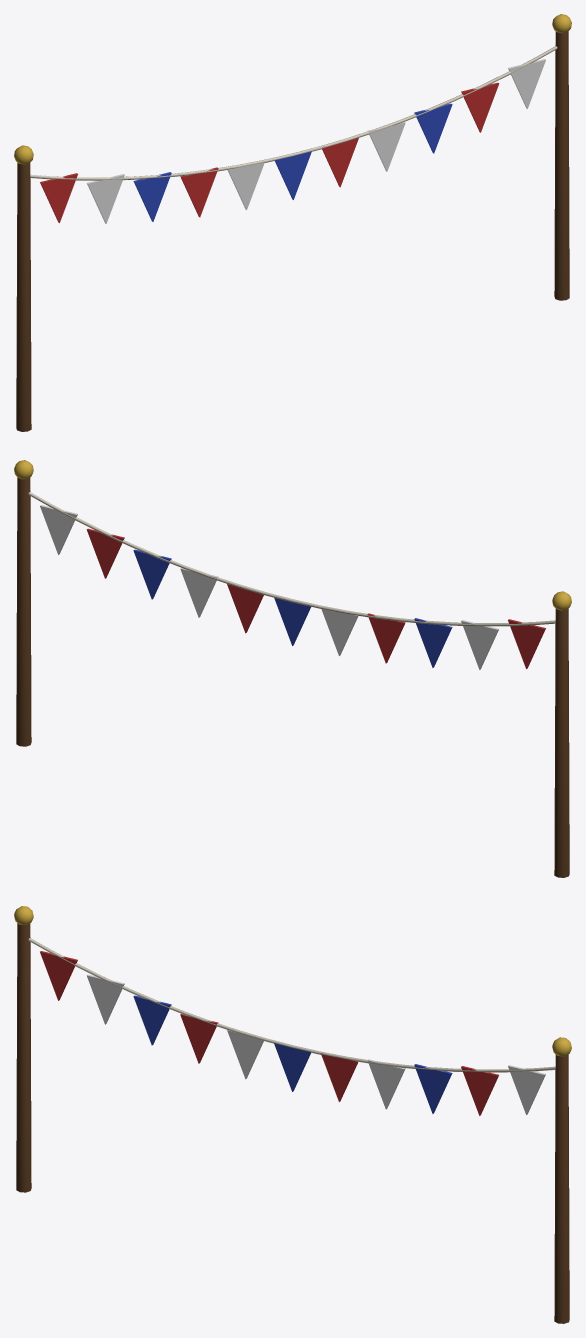
The model's file is bunting_july.glb.
The picture shows the model from 3 angles, top to bottom: view 1: azimuth 30°, elevation 25°; view 2: azimuth 150°, elevation 25°; view 3: azimuth 330°, elevation 25°; orthographic projection.
Visible parts, largest first — view 1: bunting_july_main; view 2: bunting_july_main; view 3: bunting_july_main.
Boxes of the visible parts, <box> form: bunting_july_main: <box>14,14,571,431</box>; bunting_july_main: <box>14,460,571,877</box>; bunting_july_main: <box>14,906,571,1323</box>.
Bounding box in the file's own units: 2.85 × 1.38 × 0.09.
